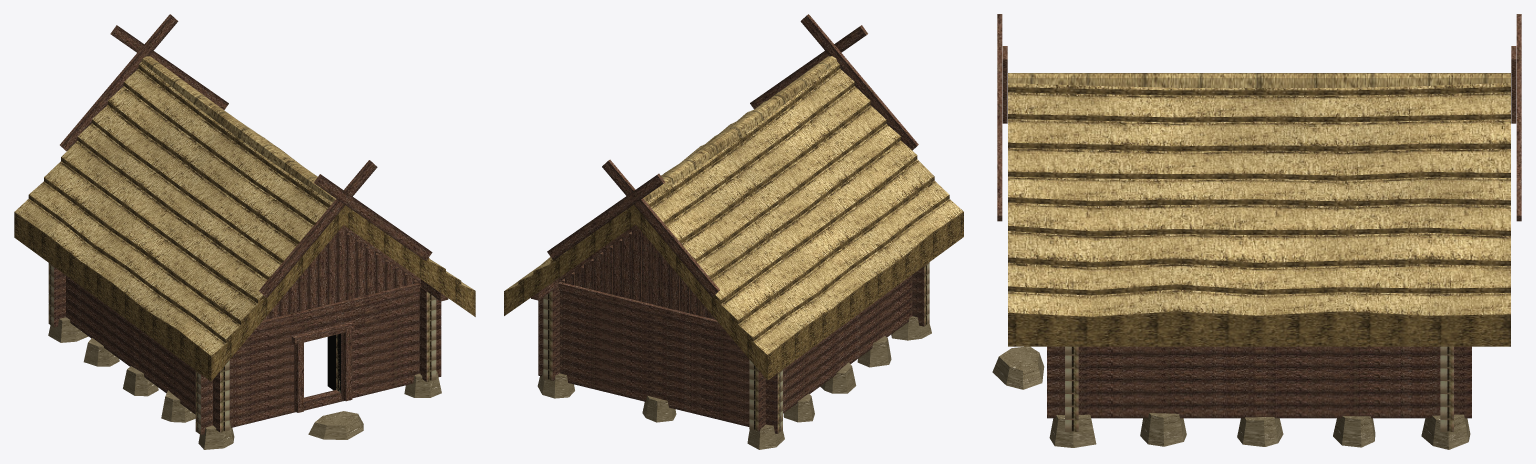
Rendered from srub.glb.
3 views of the same model, side by side, from view 1: azimuth 30°, elevation 25°; view 2: azimuth 150°, elevation 25°; view 3: azimuth 270°, elevation 25° (orthographic). The views are drawn at different scales.
Visible parts, largest first — view 1: srub; view 2: srub; view 3: srub.
Boxes of the visible parts, x1,y1,x2,y2 form: srub: (14, 14, 475, 449); srub: (504, 14, 963, 449); srub: (992, 14, 1521, 449).
Bounding box in the file's own units: 5.5 × 5.35 × 7.47.
Materials: 1 (1 with a texture image).
